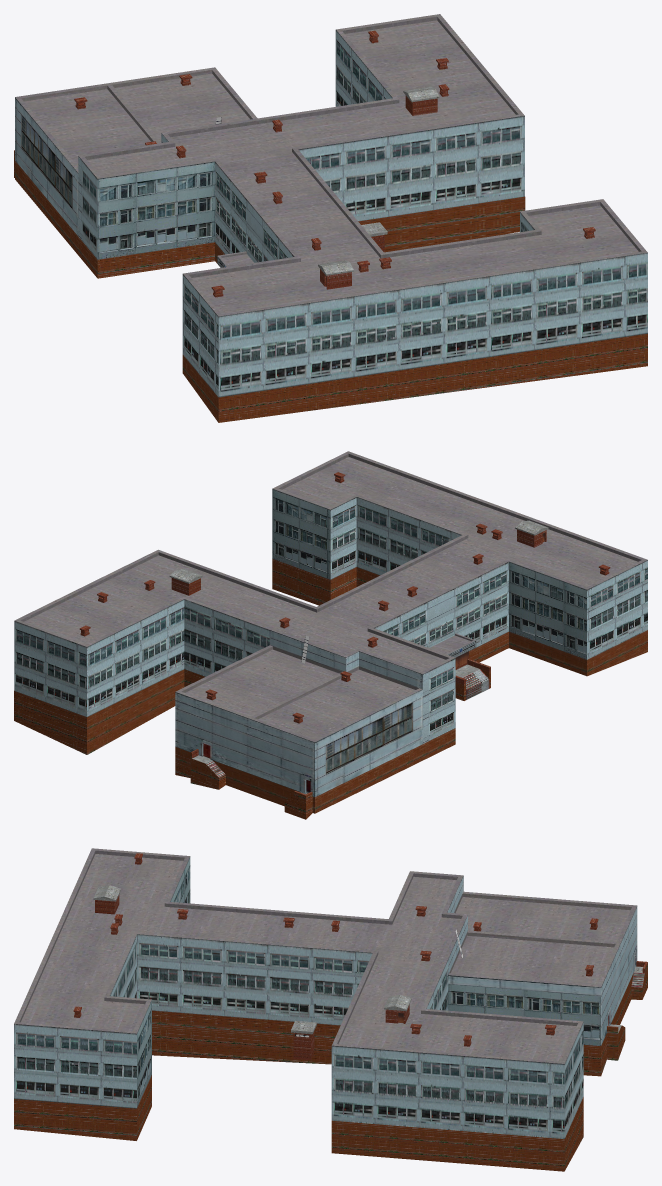
File: Синьковская Школа 2.fbx
3 views of the same model, one above another, from view 1: azimuth 30°, elevation 25°; view 2: azimuth 150°, elevation 25°; view 3: azimuth 270°, elevation 25° (orthographic). The views are drawn at different scales.
Bounding box in the file's own units: 2657 × 773 × 3297.
1 material, 1 textured.
